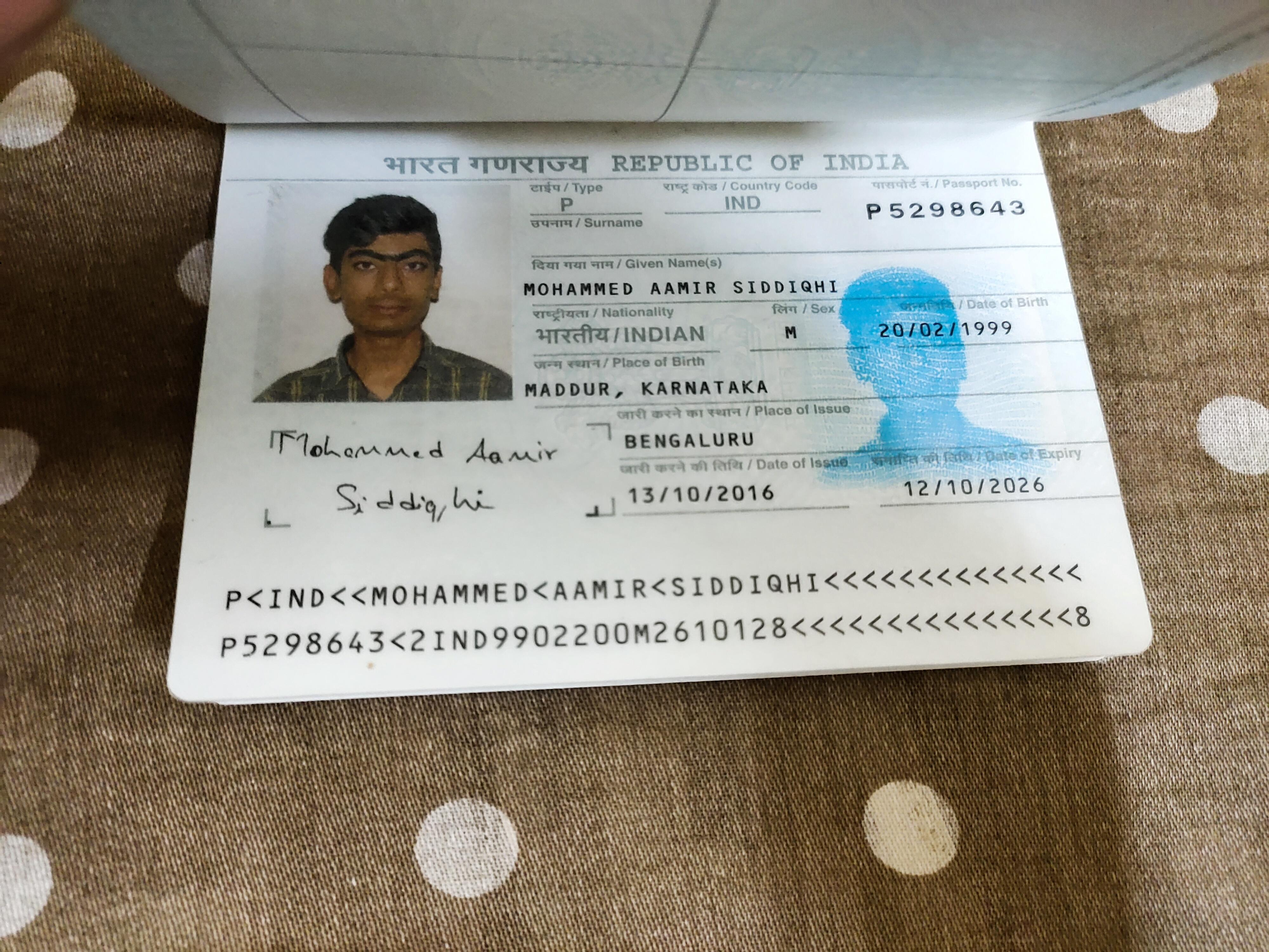DOB: (869, 311, 1033, 349)
country_code: (719, 190, 772, 223)
date_of_expiry: (896, 466, 1060, 513)
date_of_issue: (620, 474, 792, 518)
details: (210, 561, 1107, 674)
name: (522, 274, 844, 300)
nationality: (530, 321, 709, 352)
passport_no: (854, 199, 1026, 223)
photo: (265, 183, 508, 395)
place_of_birth: (518, 372, 776, 402)
place_of_issue: (612, 422, 785, 455)
sex: (774, 313, 818, 352)
sign: (252, 424, 571, 525)
type: (550, 190, 582, 225)
